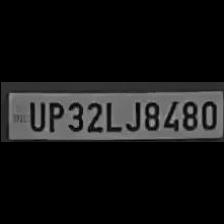0: (198, 98, 218, 130)
2: (84, 99, 103, 133)
3: (64, 98, 82, 132)
4: (160, 98, 180, 132)
8: (140, 97, 158, 130), (179, 97, 197, 130)
J: (121, 98, 139, 132)
L: (102, 98, 120, 132)
P: (43, 99, 62, 133)
U: (24, 98, 44, 132)
